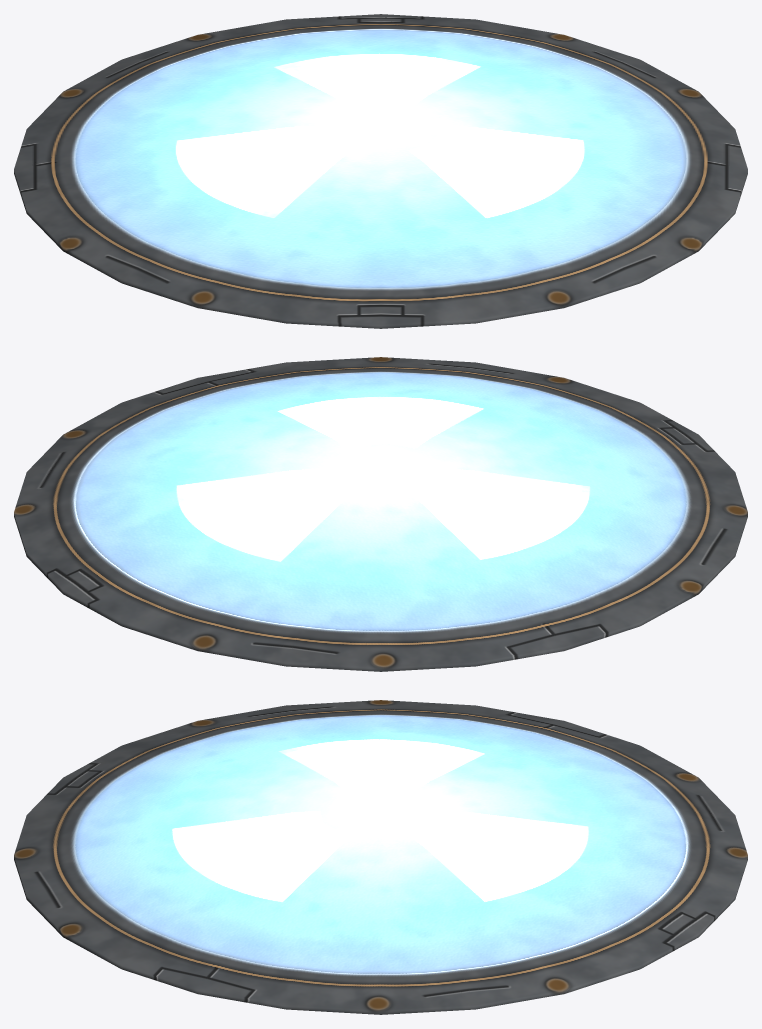
Rendered from teleport-pad-sub-lev1.fbx.
The picture shows the model from 3 angles, top to bottom: view 1: azimuth 30°, elevation 25°; view 2: azimuth 150°, elevation 25°; view 3: azimuth 270°, elevation 25°; orthographic projection.
Parts seen in each view (by area): view 1: teleport_pad_geo; view 2: teleport_pad_geo; view 3: teleport_pad_geo.
Part boxes in pixels (x1,y1,x2,y2): teleport_pad_geo: (14, 14, 747, 328); teleport_pad_geo: (14, 357, 747, 671); teleport_pad_geo: (14, 700, 747, 1014).
Bounding box in the file's own units: 8.84 × 0.6599 × 8.84.
